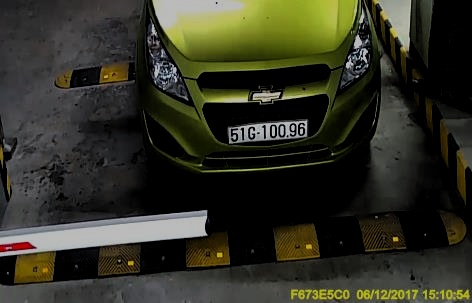plate: (223, 116, 310, 144)
